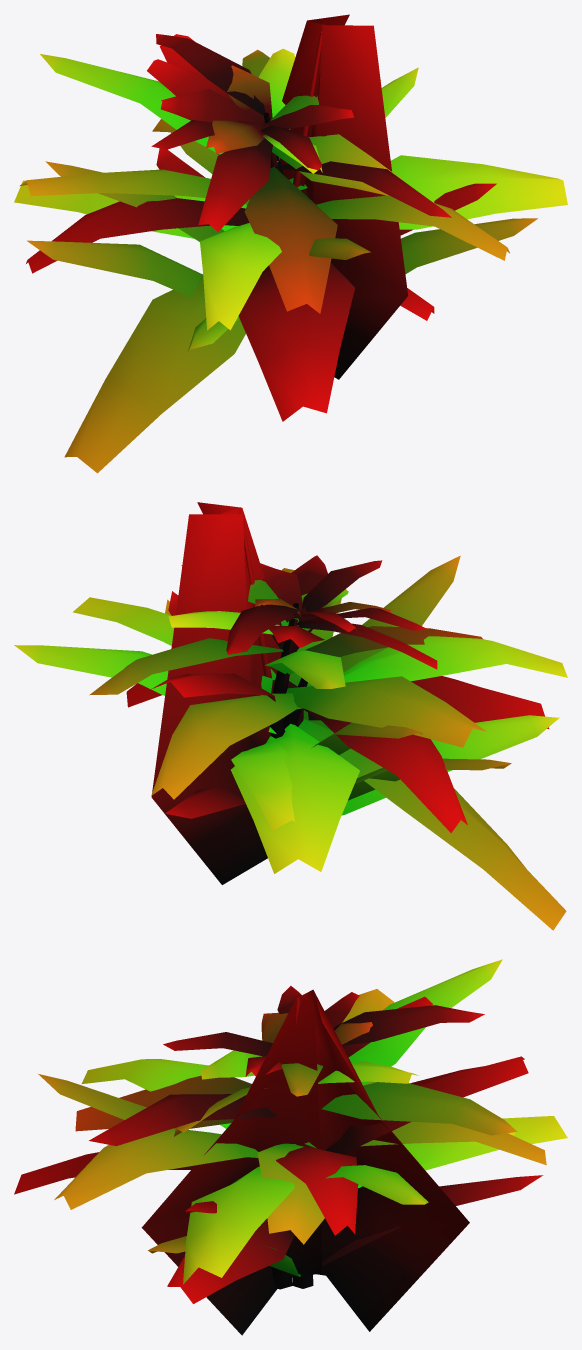
File: foolige_Mesh.fbx
3 views of the same model, one above another, from view 1: azimuth 30°, elevation 25°; view 2: azimuth 150°, elevation 25°; view 3: azimuth 270°, elevation 25° (orthographic). The views are drawn at different scales.
Parts seen in each view (by area): view 1: Plant_02, Plant_01, Plant_03, Plant_04; view 2: Plant_02, Plant_03, Plant_01, Plant_04; view 3: Plant_04, Plant_02, Plant_03, Plant_01.
Boxes of the visible parts, <box> form: Plant_02: <box>14,119,567,473</box>; Plant_01: <box>20,34,434,320</box>; Plant_03: <box>27,34,537,350</box>; Plant_04: <box>279,14,408,379</box>; Plant_02: <box>73,568,567,930</box>; Plant_03: <box>14,555,559,818</box>; Plant_01: <box>152,563,486,830</box>; Plant_04: <box>151,502,303,884</box>; Plant_04: <box>141,989,469,1335</box>; Plant_02: <box>14,1059,567,1289</box>; Plant_03: <box>38,959,543,1288</box>; Plant_01: <box>75,989,528,1303</box>.
Bounding box in the file's own units: 60.93 × 43.38 × 58.96.
